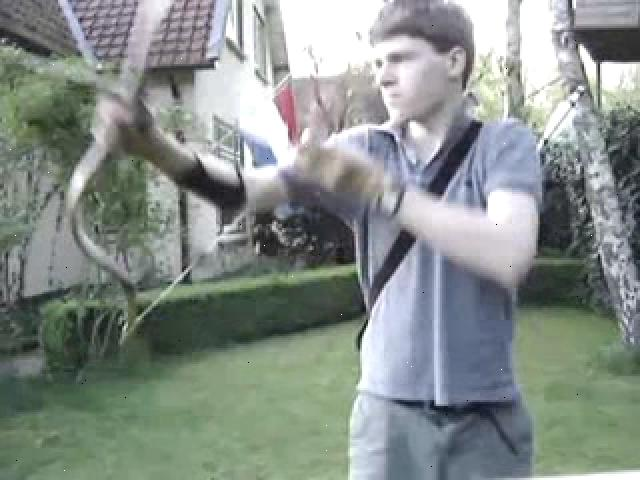P: (88, 4, 540, 476)
